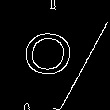O_S: (14, 28, 74, 86)
